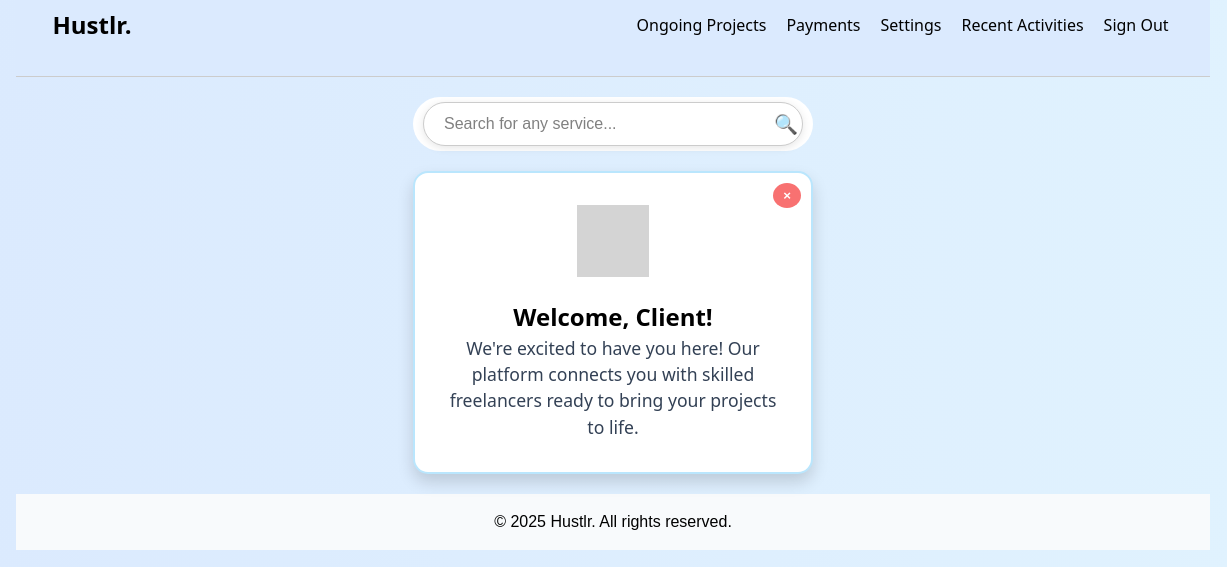
Test: Client Component › Client Component Search Functionality › filters categories based on search term matching name
// Close welcome message first
Click the button "×": click(787, 195) 773,183 -> 801,208
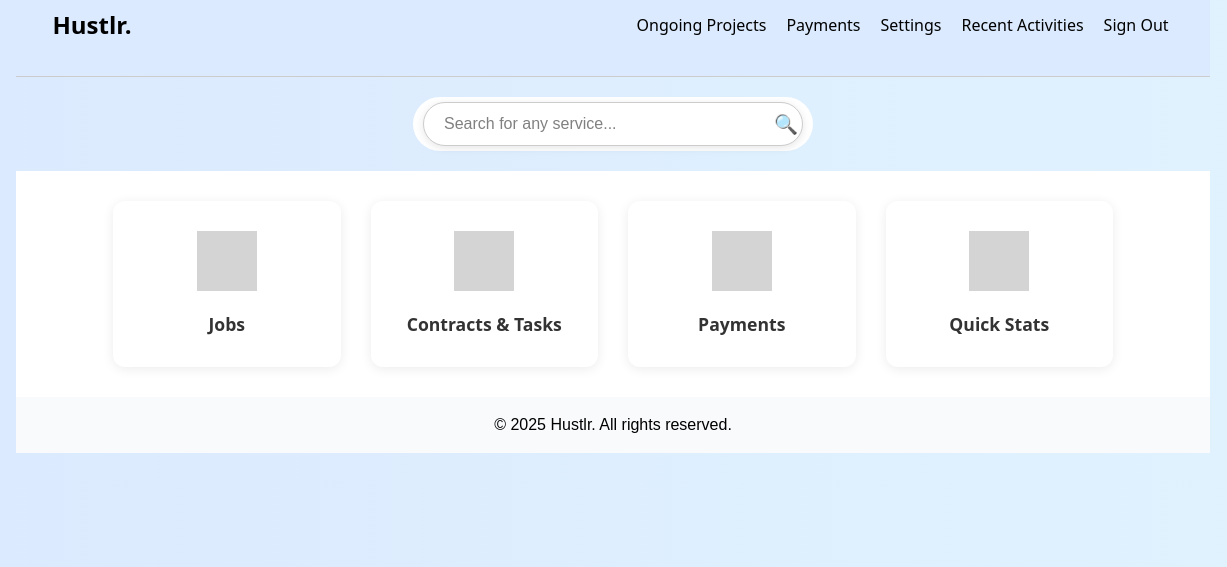
In the field with placeholder "Search for any service...": (613, 124) 423,102 -> 803,146, type "jobs"
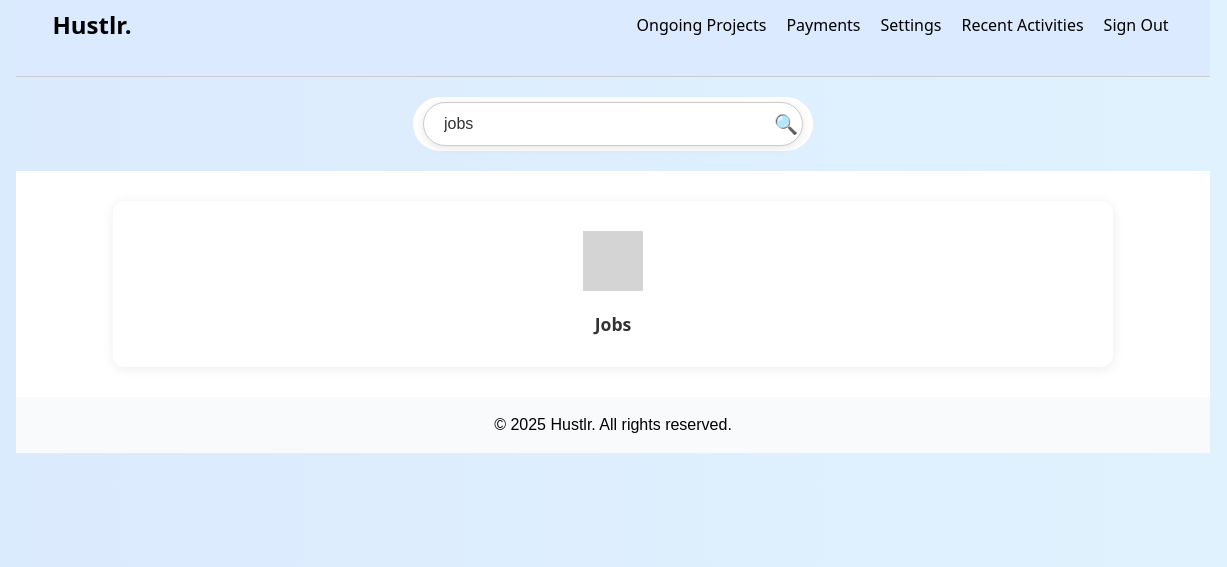
expect the text "Jobs" is shown: met, box 595,311 -> 631,337
expect the link "Contracts & Tasks" is gone: met
